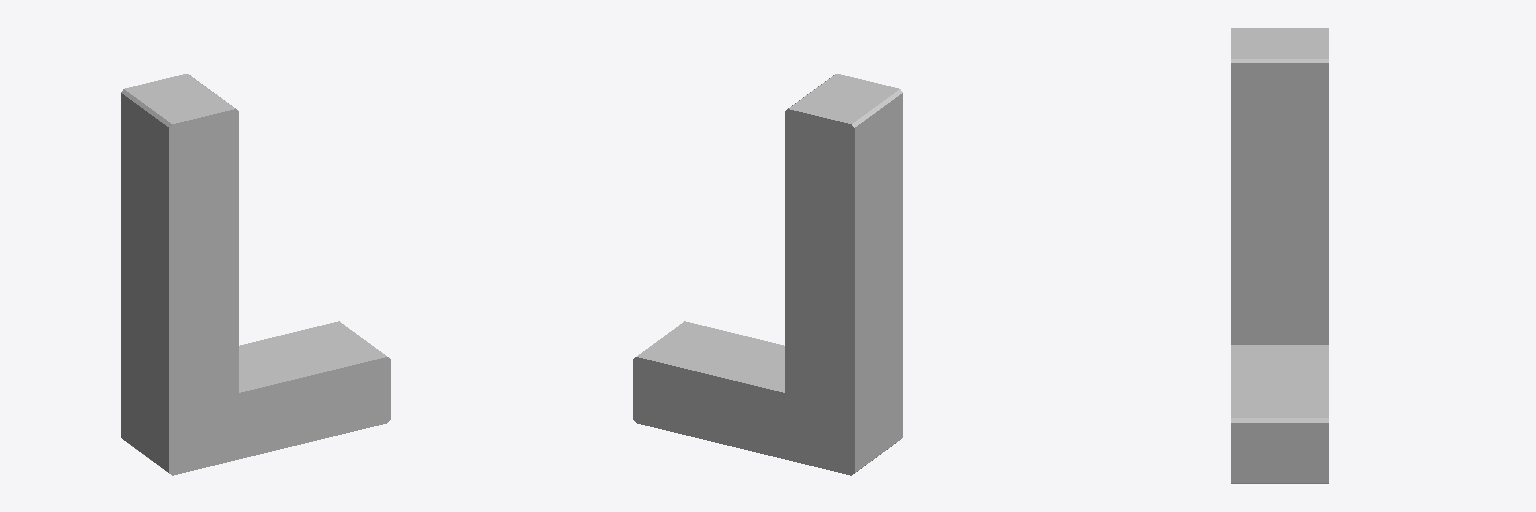
The picture shows the model from 3 angles: view 1: azimuth 30°, elevation 25°; view 2: azimuth 150°, elevation 25°; view 3: azimuth 270°, elevation 25°; orthographic projection.
Visible parts, largest first — view 1: text: ABCDEFGHIJKLMNOPQRSTUVWXYZ[number redacted]; view 2: text: ABCDEFGHIJKLMNOPQRSTUVWXYZ[number redacted]; view 3: text: ABCDEFGHIJKLMNOPQRSTUVWXYZ[number redacted].
Boxes of the visible parts, x1=… form: text: ABCDEFGHIJKLMNOPQRSTUVWXYZ[number redacted]: x1=121, y1=74, x2=390, y2=475; text: ABCDEFGHIJKLMNOPQRSTUVWXYZ[number redacted]: x1=633, y1=74, x2=902, y2=475; text: ABCDEFGHIJKLMNOPQRSTUVWXYZ[number redacted]: x1=1231, y1=28, x2=1328, y2=483.
Bounding box in the file's own units: 65.82 × 99.72 × 25.